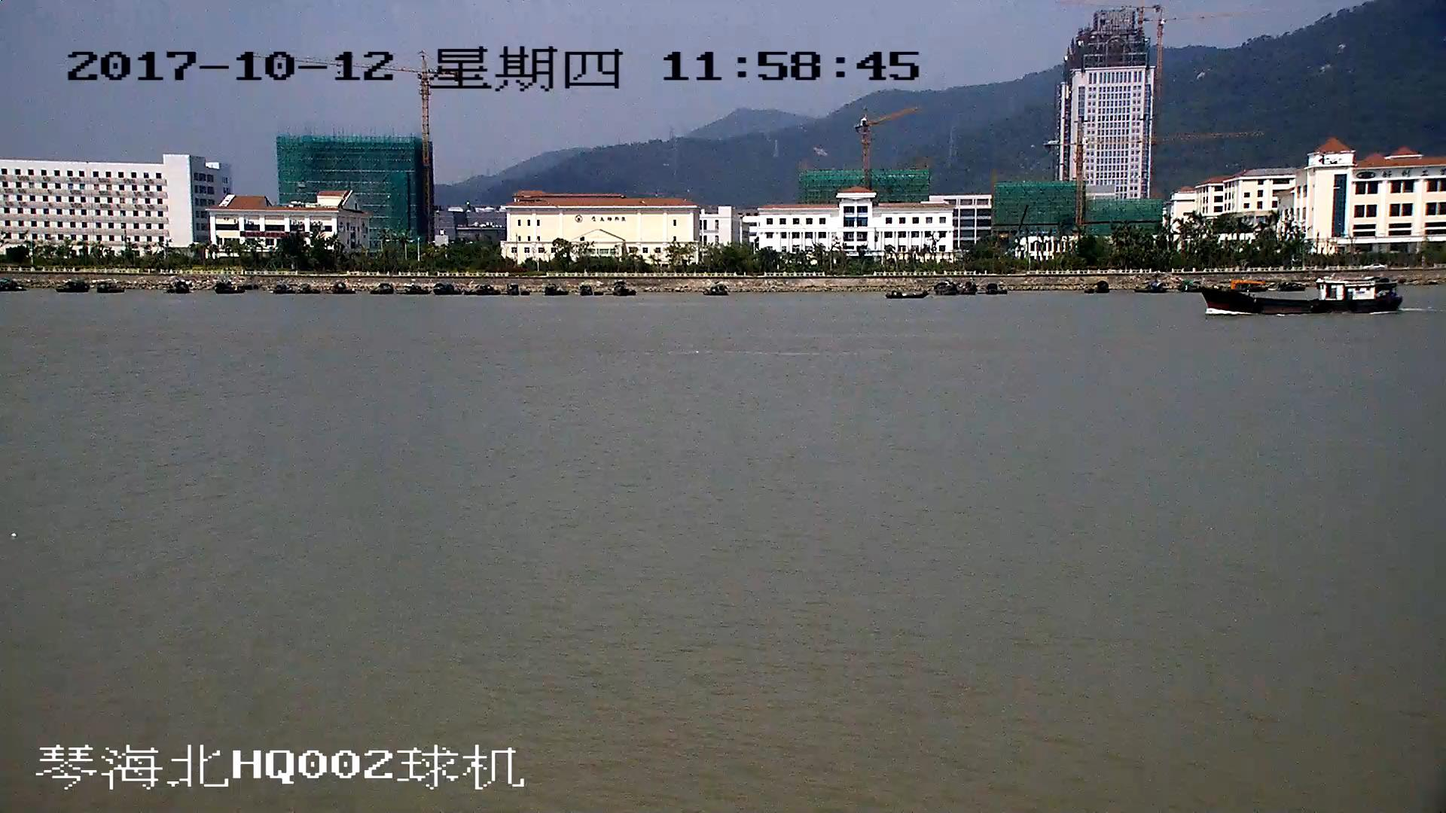fishing boat: (1199, 277, 1401, 314)
